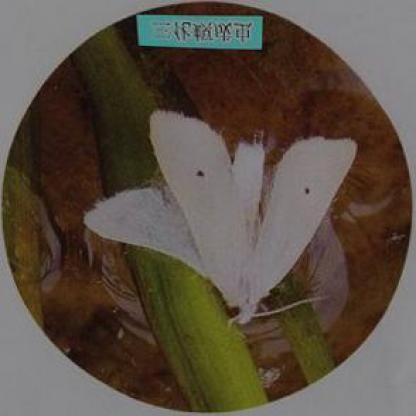stem-borer: (82, 110, 358, 328)
